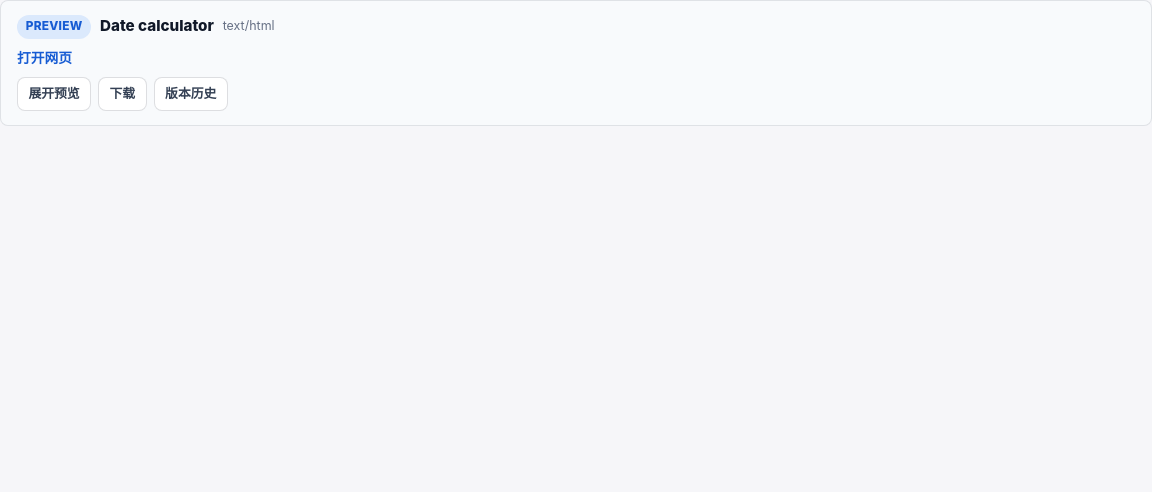
ArtifactCard › loads artifact revisions, renders revision diffs, and restores a revision
What coordinates should you click on to do the following:
click the button with aria-label "Open Date calculator version history"
I would click on:
 (191, 94)
Its box is [154, 77, 228, 111].
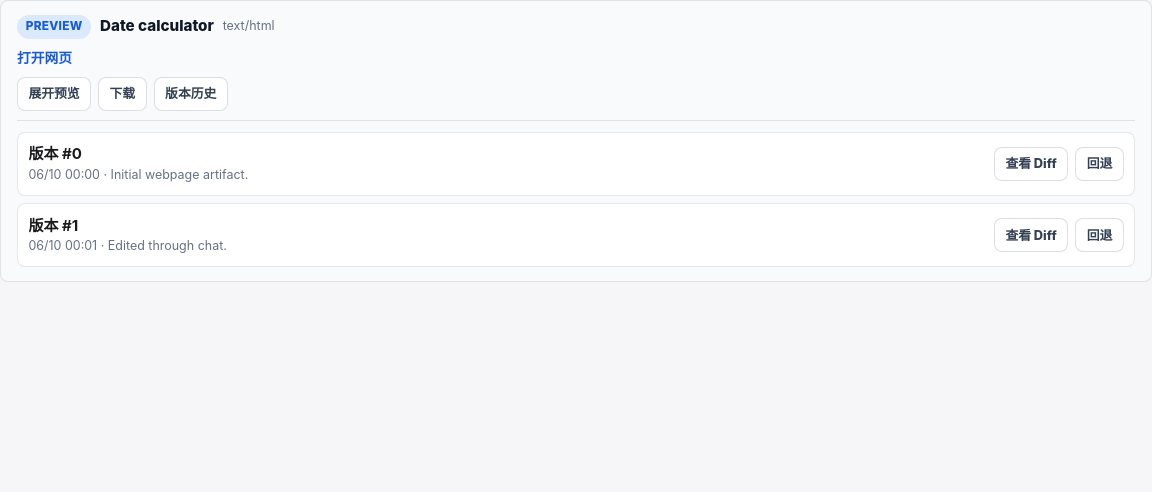
expect the text "版本 #0" is shown: met, box [28, 144, 82, 163]
What coordinates should you click on to do the following:
click the button "查看 Diff" in the row of "· Edited through chat."
I would click on:
 (1031, 235)
Its box is [994, 218, 1068, 252].
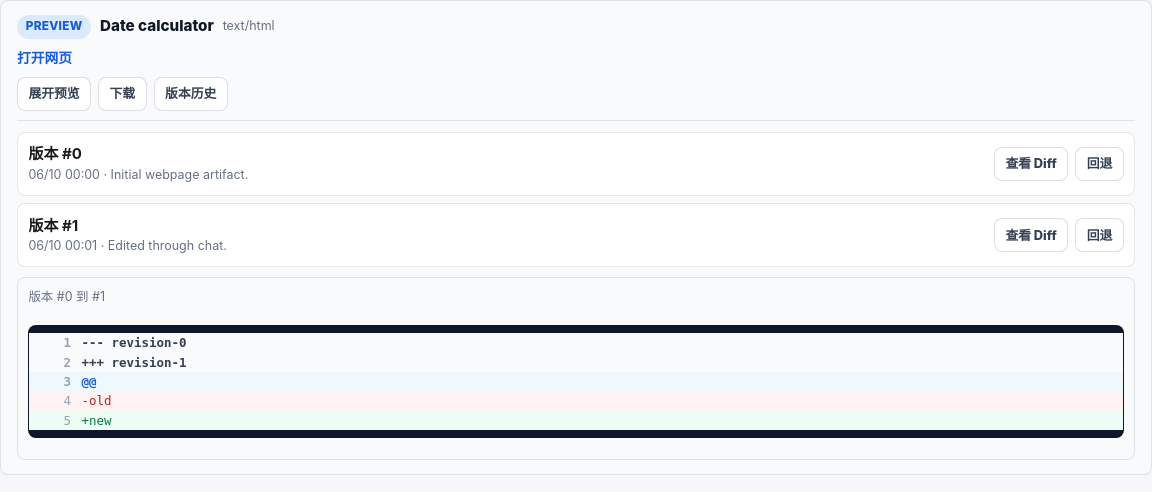
expect the element that starts with "到 #" is shown: met, box [17, 277, 1135, 460]
expect the element showing "4 -old" is shown: met, box [29, 391, 1123, 411]
expect the element showing "5 +new" is shown: met, box [29, 411, 1123, 430]
What coordinates should you click on to do the following:
click the button "回退" in the row of "· Initial webpage artifact."
I would click on:
 (1099, 164)
Its box is [1075, 147, 1124, 181].
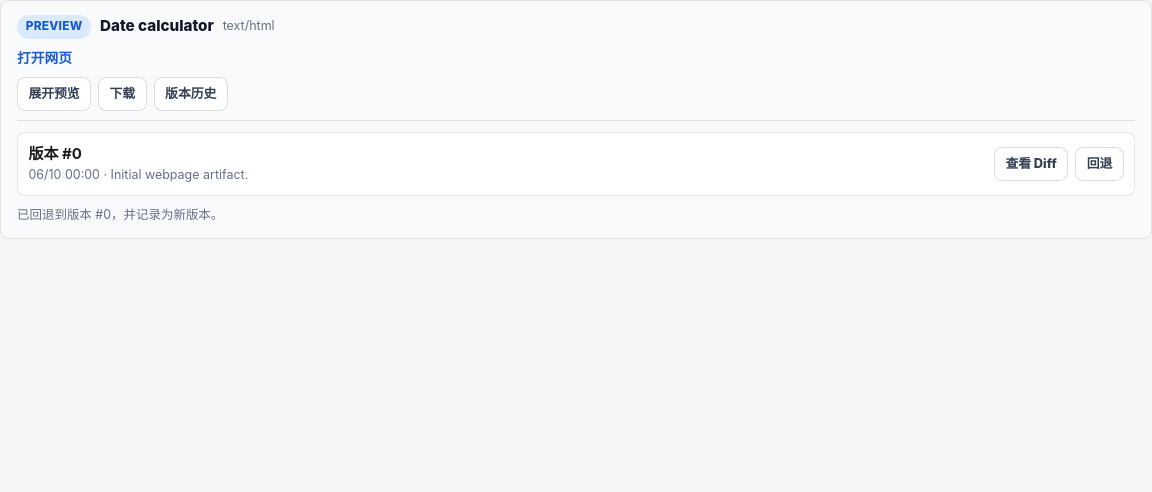
expect the text "已回退到版本 #0，并记录为新版本。" is shown: met, box [17, 206, 223, 222]
